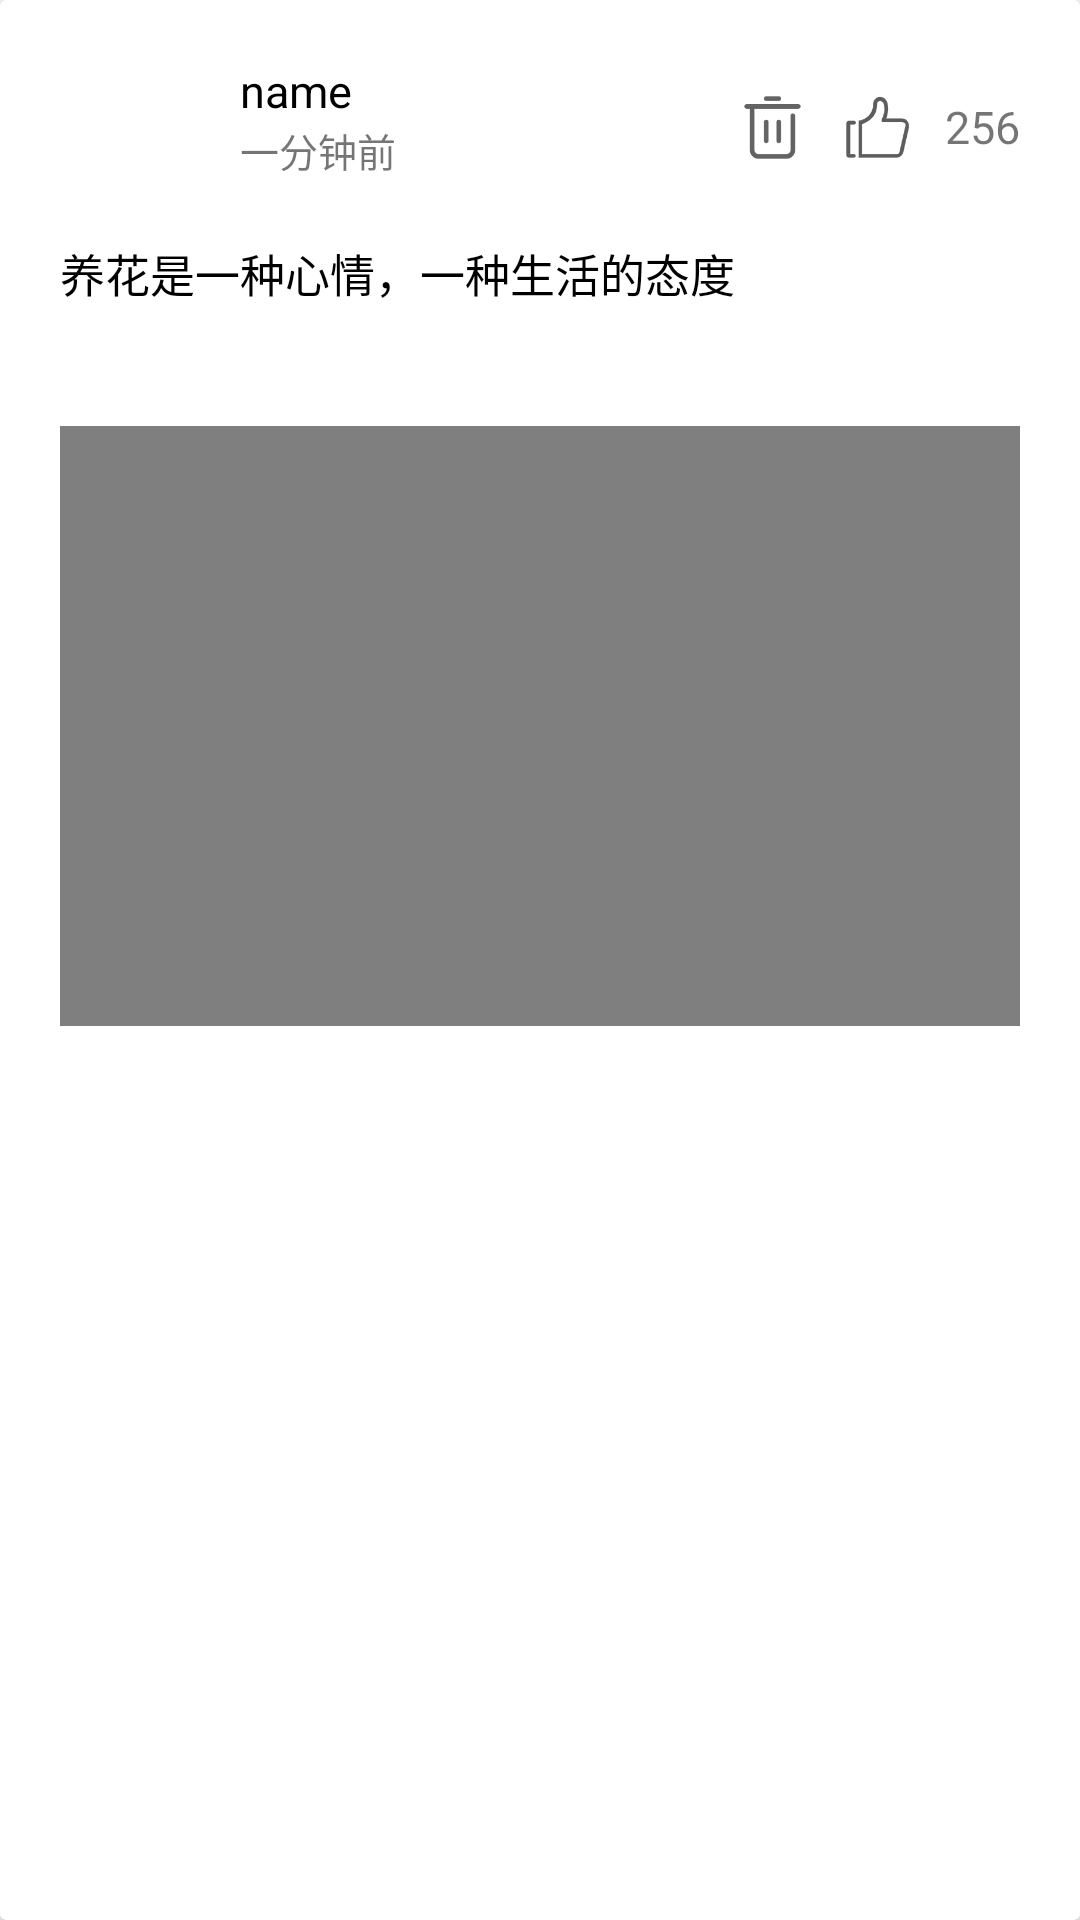

Where icons sit on this 1080 x 1920 app screen, as bbox=[x1, y1, x2, y2]:
delete: bbox=[744, 96, 801, 159]
like un: bbox=[846, 97, 909, 158]
